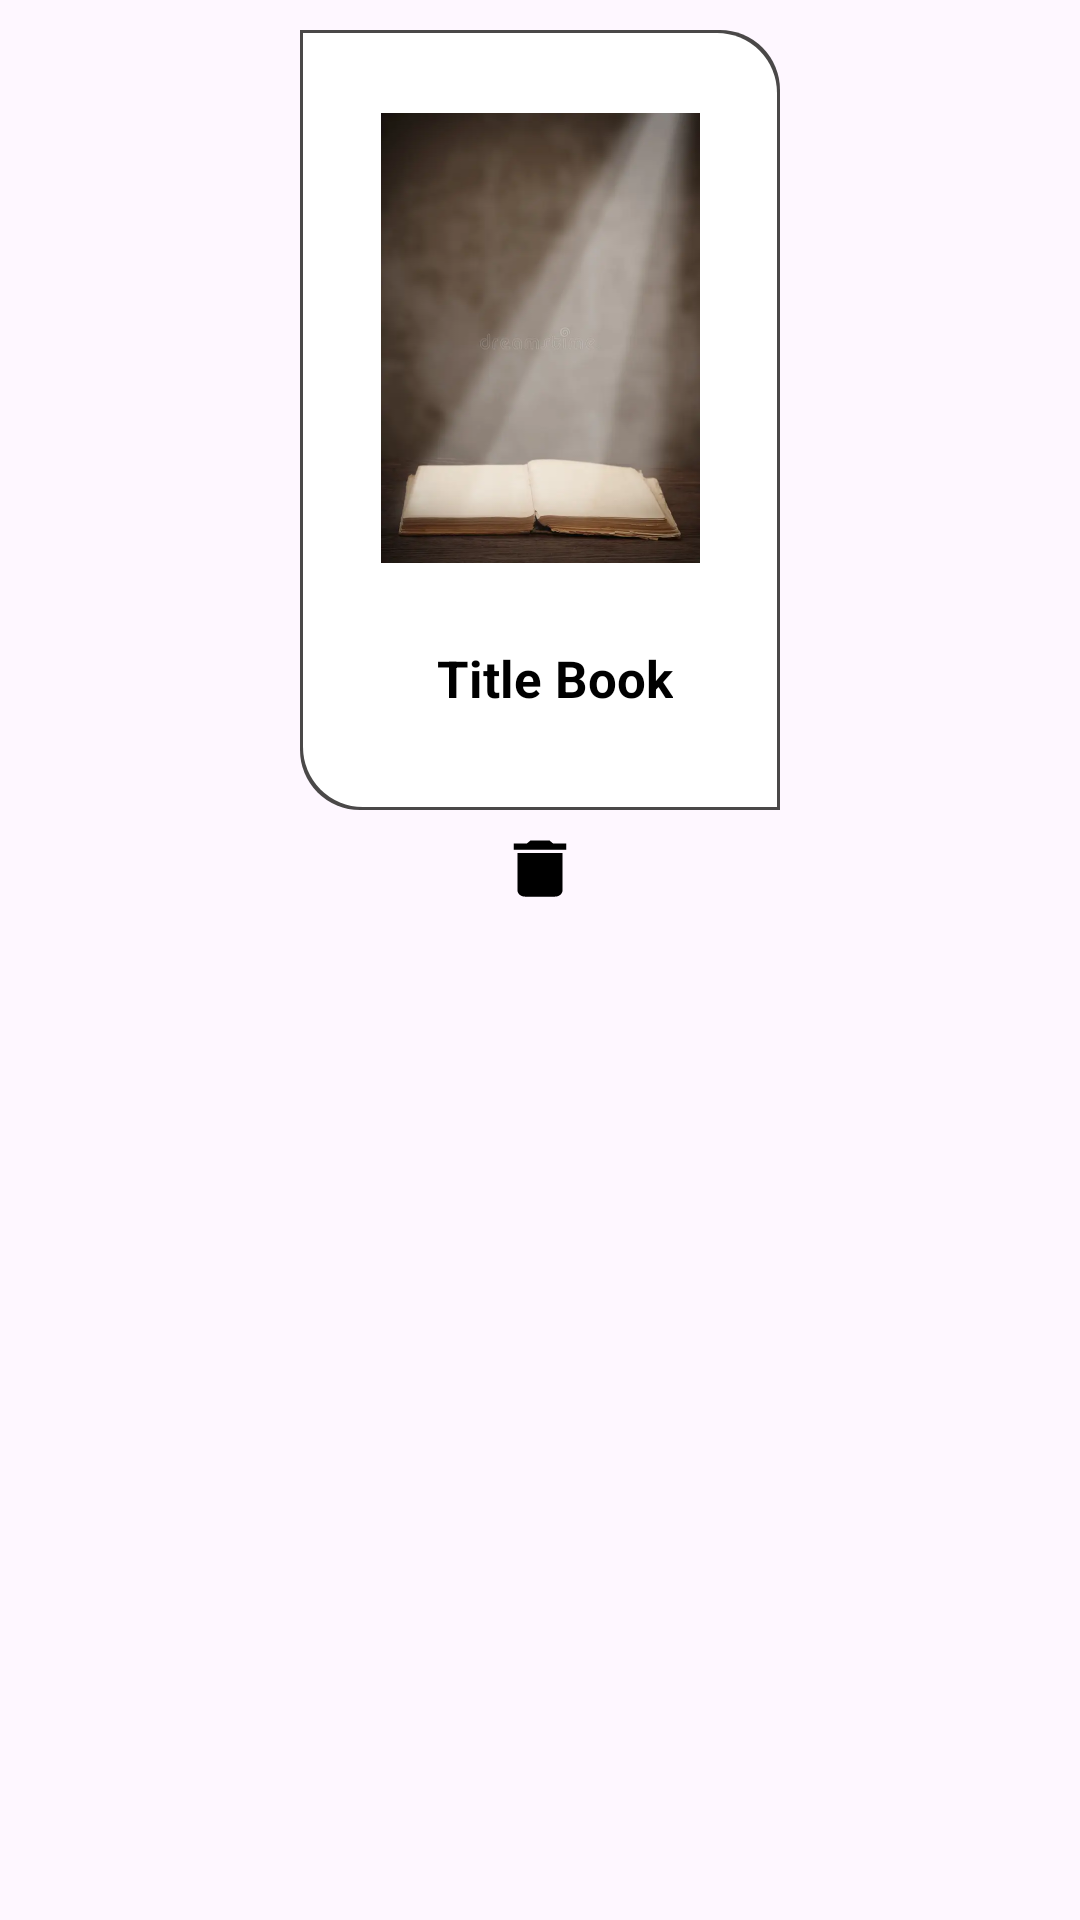

Where icons sit on this 1080px x 1920px app screen, as [x1,y1,x2,y2]:
delete: [513,840,567,897]
